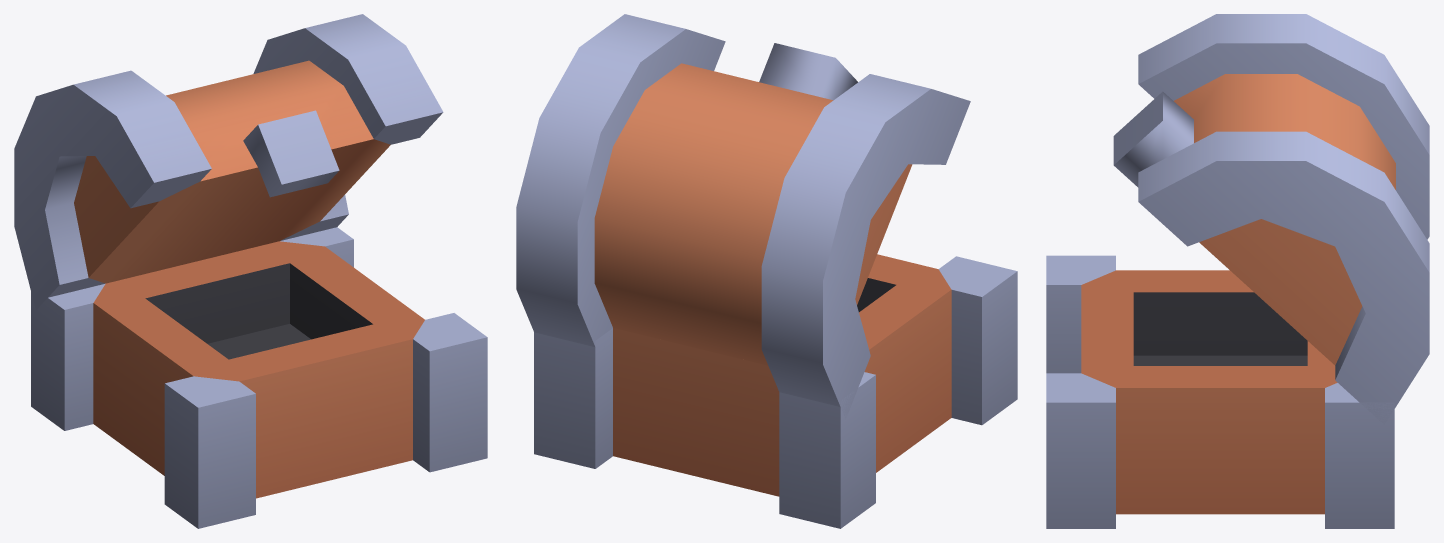
Rendered from open.glb.
The picture shows the model from 3 angles, left to right: view 1: azimuth 30°, elevation 25°; view 2: azimuth 150°, elevation 25°; view 3: azimuth 270°, elevation 25°; orthographic projection. The views are drawn at different scales.
Visible parts, largest first — view 1: chest, lid; view 2: lid, chest; view 3: lid, chest.
Boxes of the visible parts, <box> form: chest: <box>31,227,487,528</box>; lid: <box>14,14,443,309</box>; lid: <box>516,14,970,419</box>; chest: <box>534,254,1017,528</box>; lid: <box>1113,14,1429,424</box>; chest: <box>1046,255,1394,528</box>.
Bounding box in the file's own units: 0.5 × 0.5829 × 0.5501.
1 material, 1 textured.
